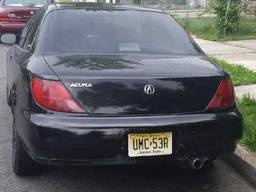acura: (1, 1, 252, 191)
